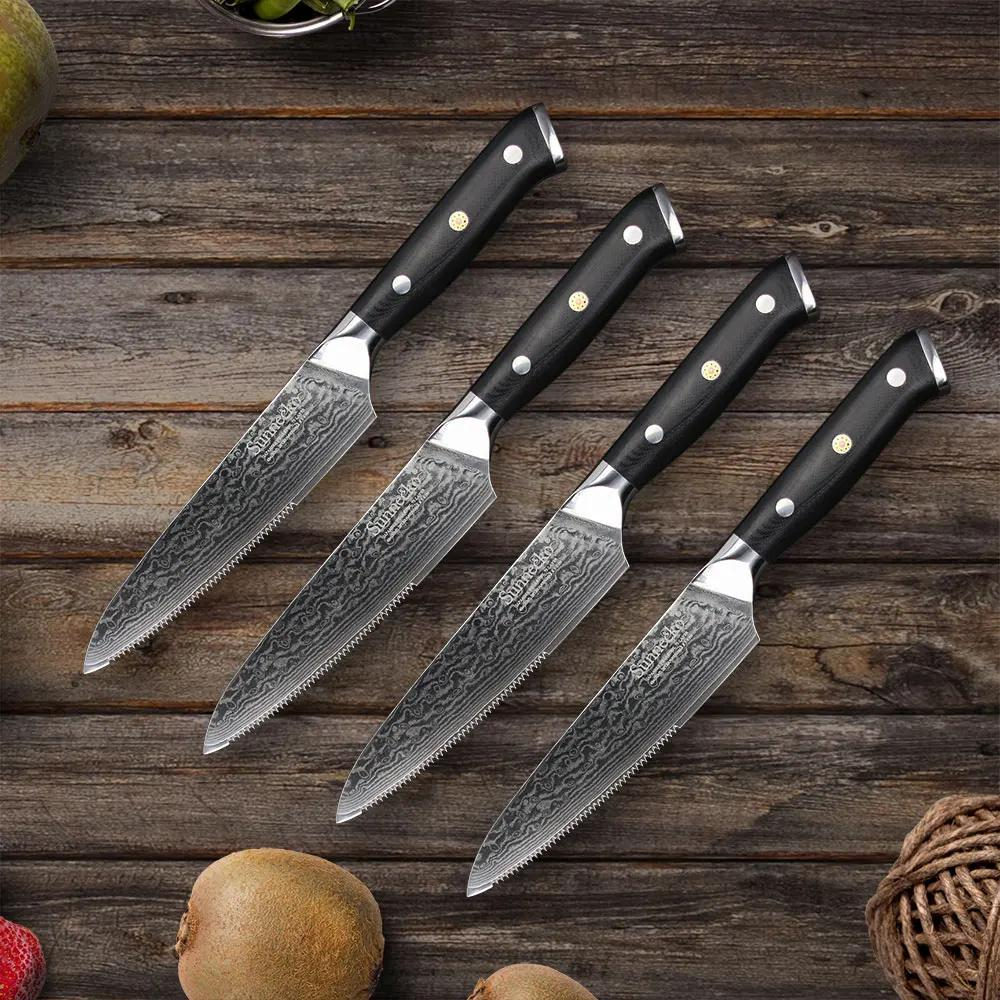faca: (203, 185, 682, 752), (467, 330, 946, 896), (84, 107, 563, 671), (337, 259, 814, 822)
